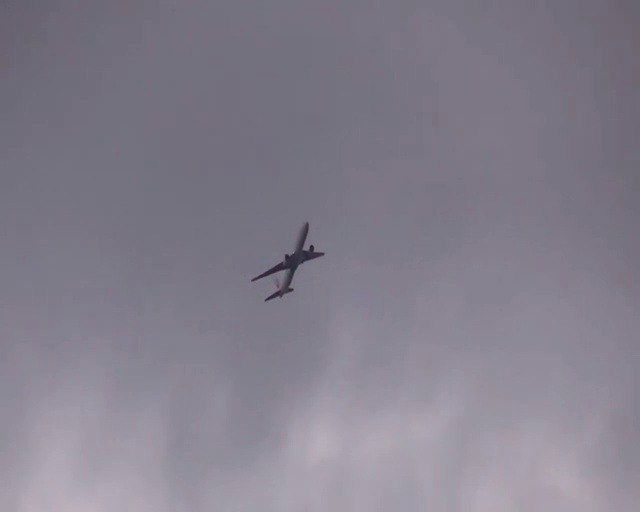AIRPLANE: (250, 220, 325, 302)
